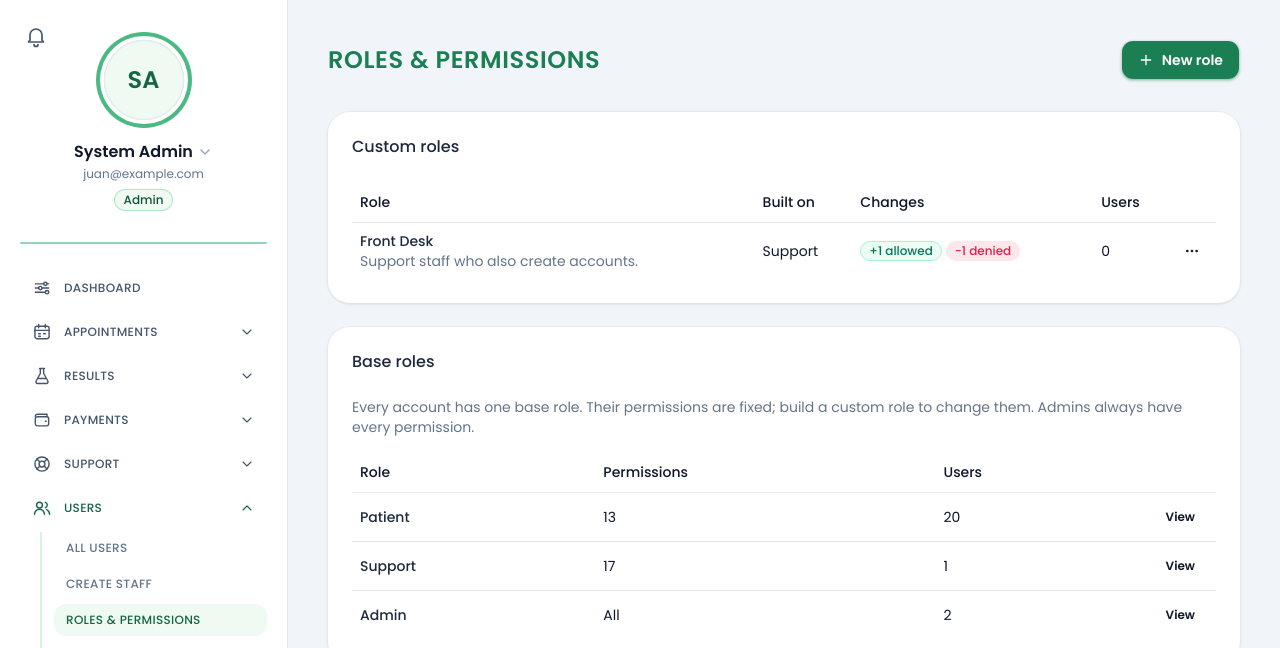
Test: RolesPage › deletes a role after confirming
Click the button named "Actions for Front Desk" at (1192, 250), box x1=1176 y1=234 x2=1208 y2=266
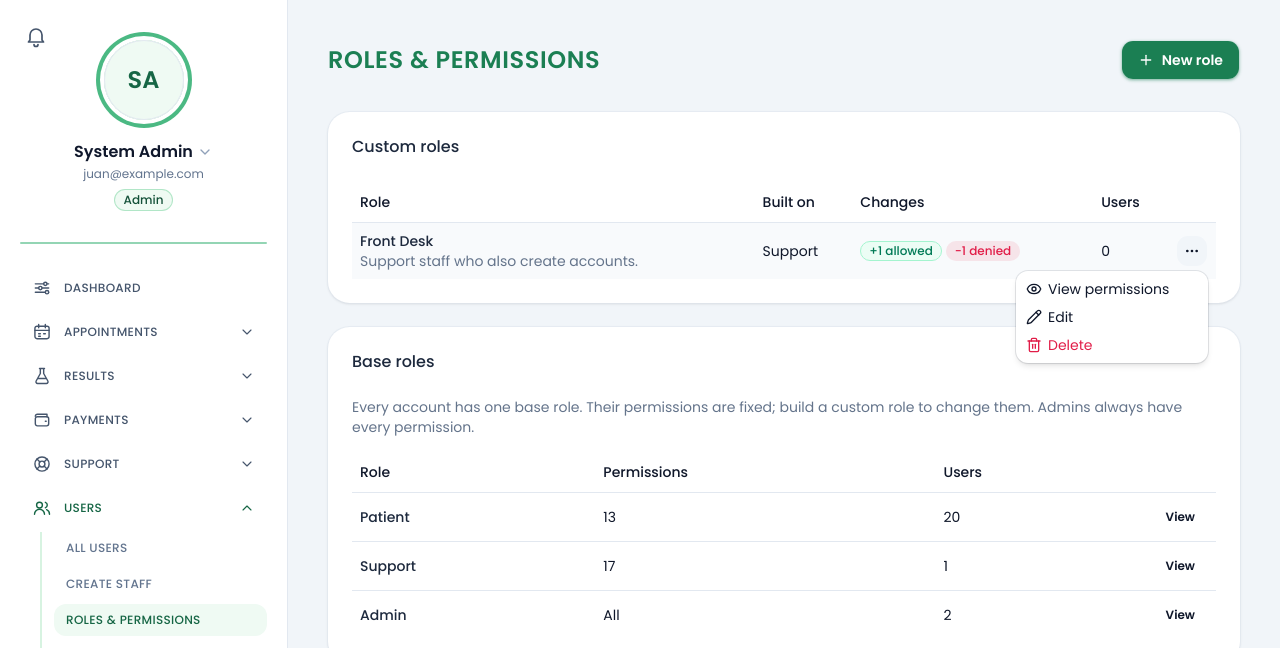
Click the menu item "Delete" at (1059, 345), box x1=1026 y1=335 x2=1092 y2=355
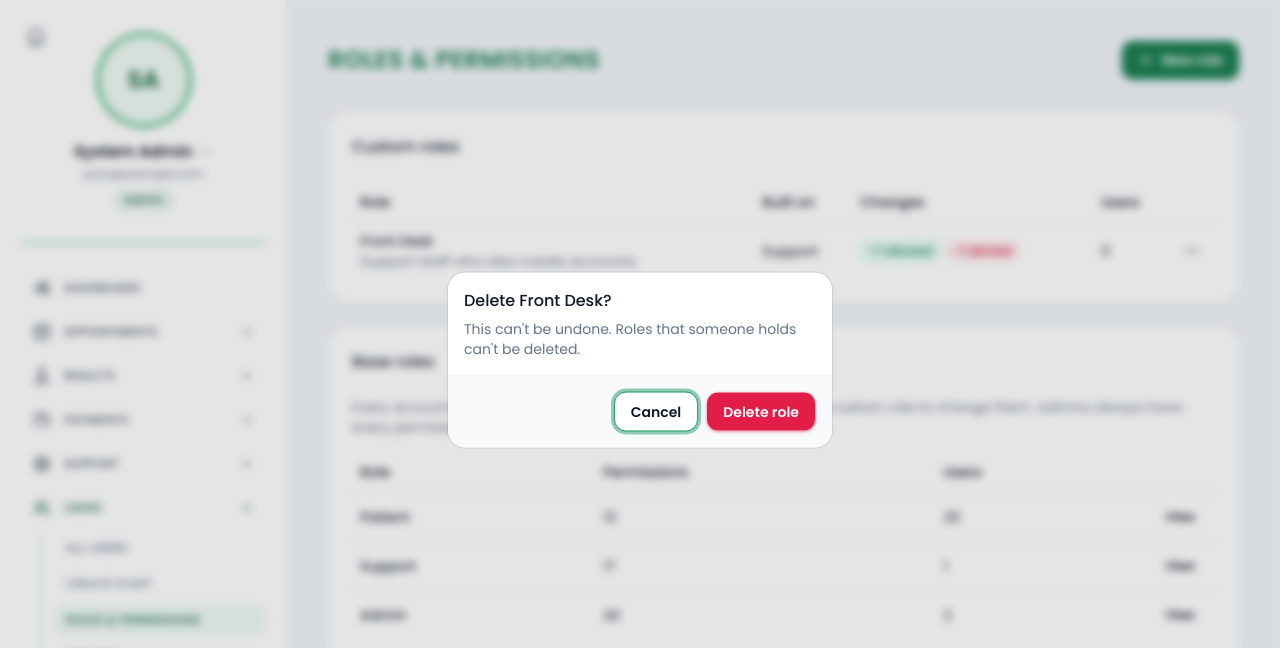
Click the button "Delete role" at (761, 412), box x1=706 y1=392 x2=816 y2=432
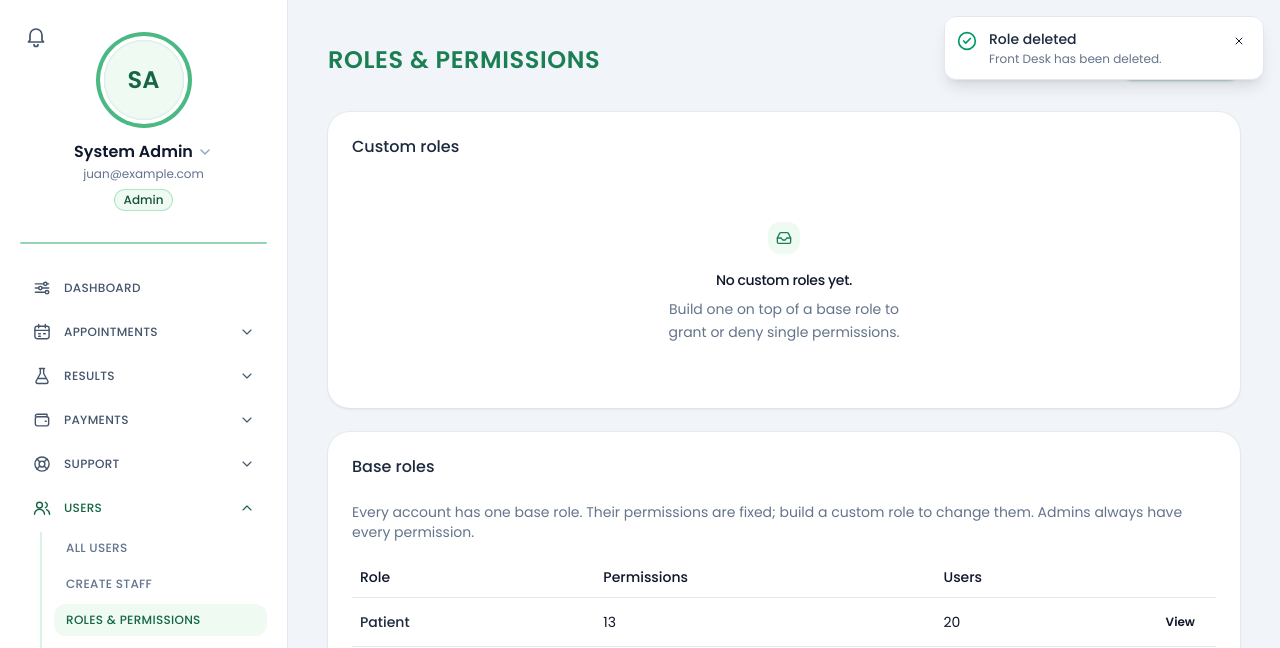
Check: the text "Role deleted" is shown, box x1=989 y1=29 x2=1077 y2=49
Check: the text "No custom roles yet." is shown, box x1=716 y1=270 x2=852 y2=290
